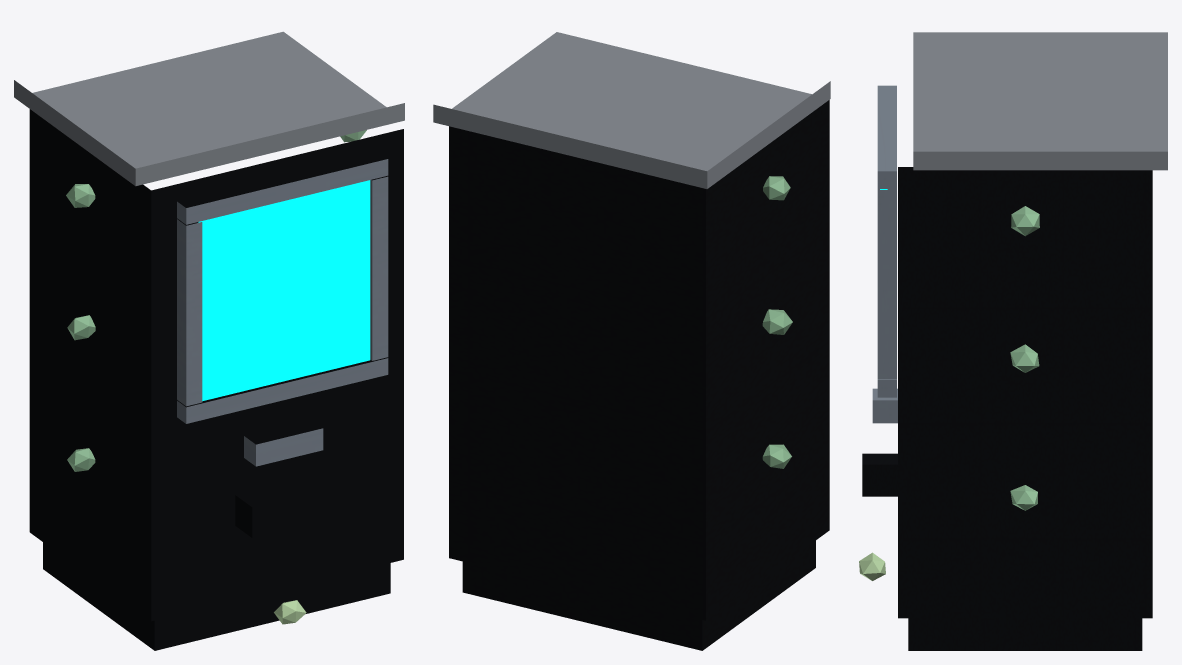
File: v5_green_kiosk.glb
The picture shows the model from 3 angles, left to right: view 1: azimuth 30°, elevation 25°; view 2: azimuth 150°, elevation 25°; view 3: azimuth 270°, elevation 25°; orthographic projection. The views are drawn at different scales.
Parts seen in each view (by area): view 1: Kiosk_Body, Kiosk_Top, Kiosk_Screen, Kiosk_Bezel, Ticket_Mouth, Card_Slot, Vine; view 2: Kiosk_Body, Kiosk_Top, Vine; view 3: Kiosk_Body, Kiosk_Top, Kiosk_Bezel, Vine, Ticket_Mouth, Card_Slot, Moss.
Part boxes in pixels (x1,y1,x2,y2): Kiosk_Body: (29, 109, 403, 650); Kiosk_Top: (14, 31, 404, 186); Kiosk_Screen: (198, 180, 370, 401); Kiosk_Bezel: (177, 159, 388, 423); Ticket_Mouth: (235, 487, 336, 538); Card_Slot: (244, 428, 323, 466); Vine: (66, 130, 366, 471); Kiosk_Body: (449, 100, 829, 650); Kiosk_Top: (433, 32, 830, 188); Vine: (762, 176, 792, 468); Kiosk_Body: (898, 167, 1152, 650); Kiosk_Top: (913, 32, 1167, 170); Kiosk_Bezel: (877, 85, 896, 397); Vine: (1010, 206, 1039, 510); Ticket_Mouth: (862, 453, 897, 496); Card_Slot: (872, 388, 897, 423); Moss: (859, 552, 885, 580).
Size of what is drawn, in the model's own units: 0.6985 by 1.1 by 0.6065.
Materials: 6 (2 with a texture image).
